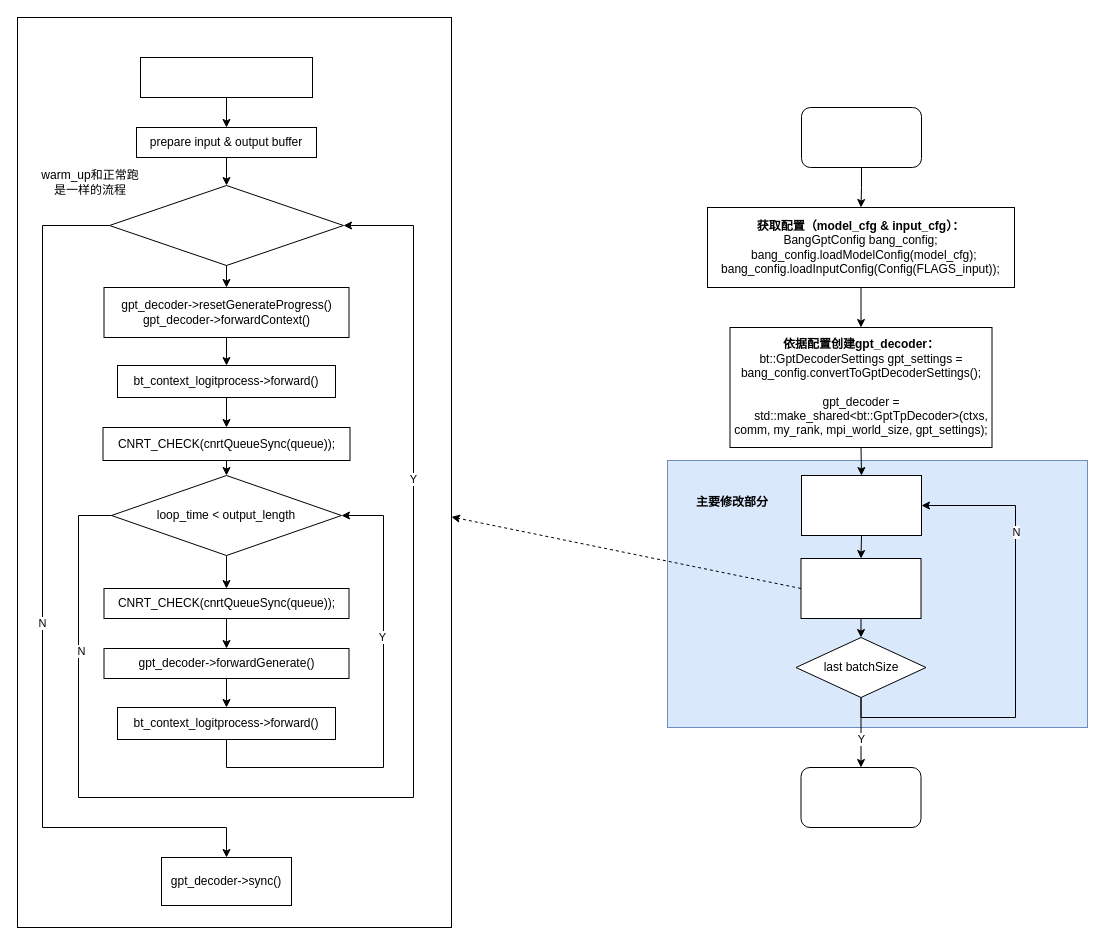
Image size: 1105x945. Some labels were removed from this diagram. The shapes that lost their labels are listed below. From the top down, each one's centre as x and y in pixels, then its label:
the point at 226,77: set bt_context_logitprocess
the point at 861,137: start
the point at 226,225: iter < warm_up + iteration
the point at 861,505: take batchSize
the point at 860,588: warm_up && test
the point at 860,797: finish
